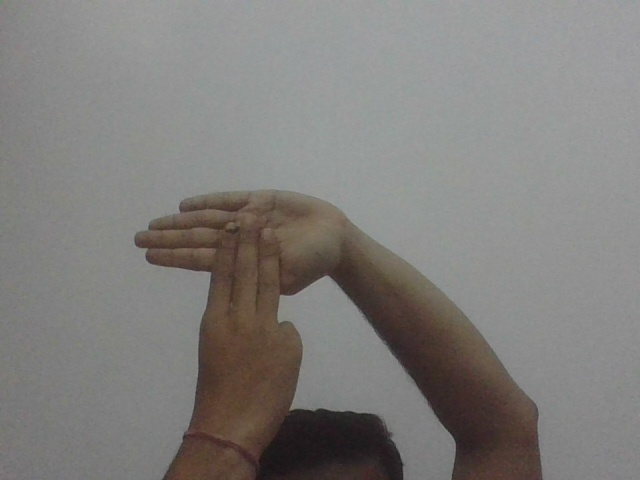M: (131, 183, 345, 351)
